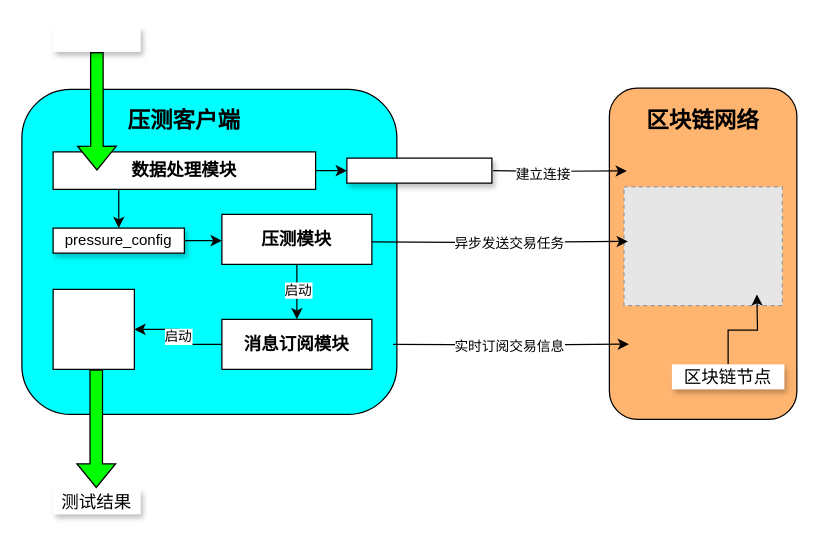
Some shapes in this 819 by 544 pixel diagram are drawn without their labels. Grey dashed boxes stand in for pictures. Here are the shapes that lost their labels. From the top down, the centre of each, then its label:
At pixel 98 40: "测试任务".
At pixel 420 172: "chainmaker_config".
At pixel 93 328: "指标计算模块".
